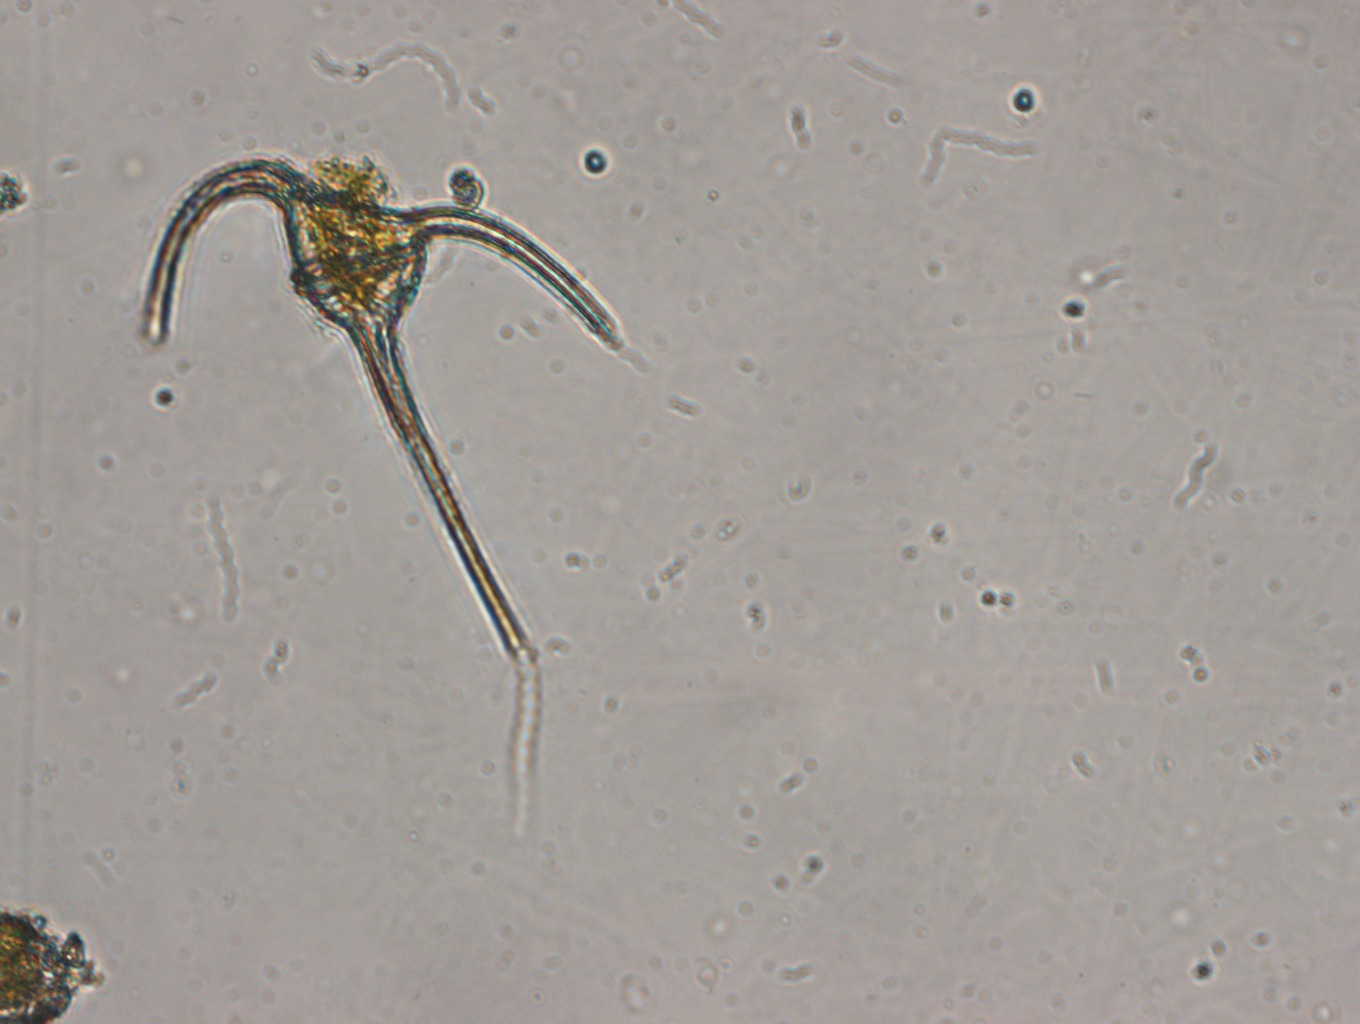ceratium trichoceros: (135, 150, 624, 669)
